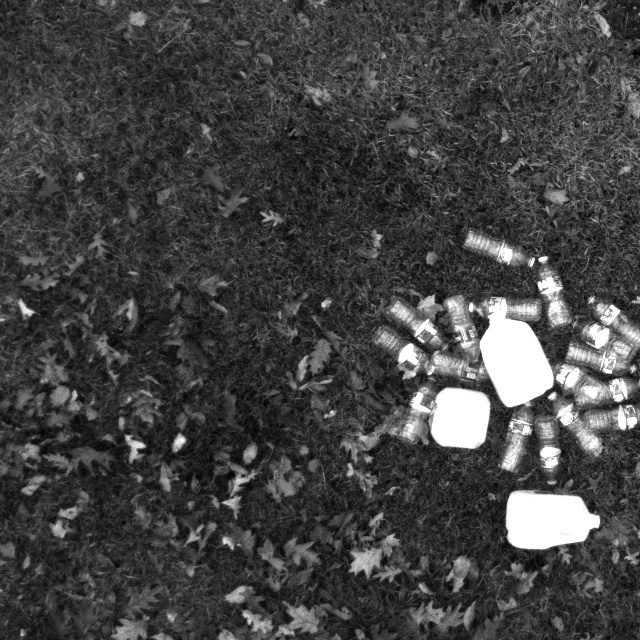bottle: (393, 376, 441, 456), (459, 224, 532, 271), (496, 406, 541, 481), (373, 326, 434, 381), (392, 287, 442, 352), (571, 369, 640, 416), (541, 256, 582, 331), (570, 323, 640, 364), (428, 351, 487, 399), (553, 412, 608, 459), (449, 288, 480, 366), (571, 402, 640, 437), (558, 347, 640, 376), (580, 306, 640, 345), (555, 373, 620, 407), (479, 303, 546, 324), (540, 414, 565, 468)
can: (496, 487, 595, 569), (479, 307, 554, 412), (422, 387, 499, 464)
